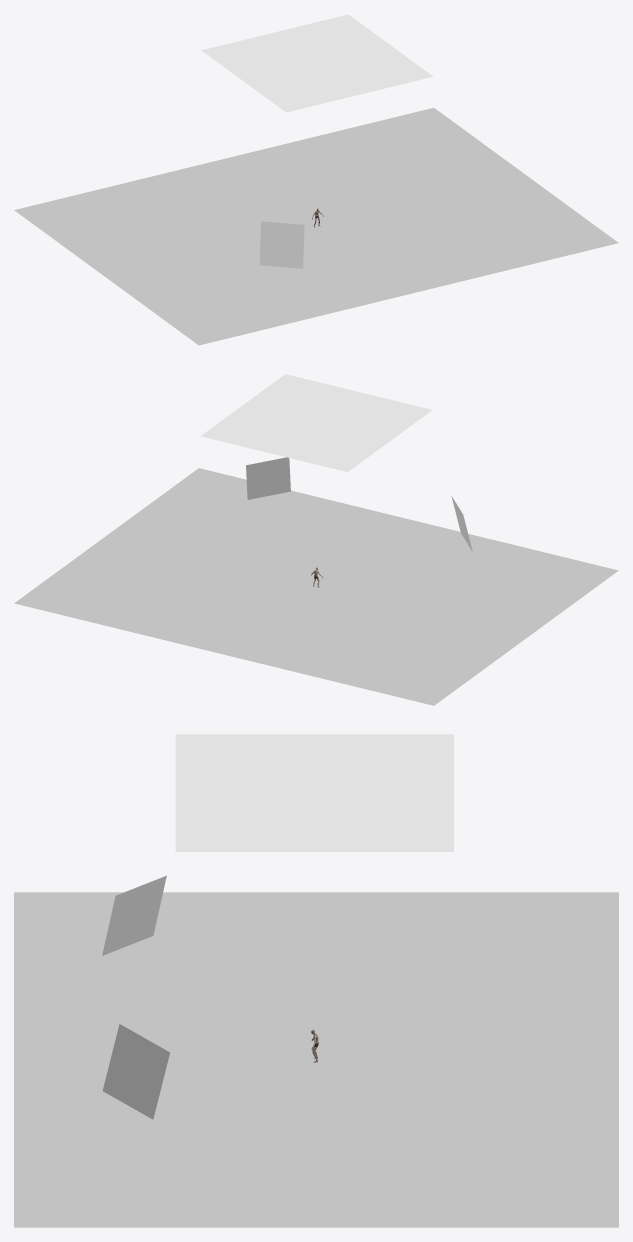
The model's file is OldMan.obj.
3 renders of one model, top to bottom at view 1: azimuth 30°, elevation 25°; view 2: azimuth 150°, elevation 25°; view 3: azimuth 270°, elevation 25°, orthographic. The views are drawn at different scales.
Visible parts, largest first — view 1: Plane, Softbox, Front_Of_Softbox, Front_Of_Softbox_1; view 2: Plane, Softbox, Front_Of_Softbox_1; view 3: Plane, Softbox, Front_Of_Softbox_1, Front_Of_Softbox.
Boxes of the visible parts, x1=… form: Plane: x1=14, y1=107, x2=618, y2=345; Softbox: x1=201, y1=14, x2=432, y2=112; Front_Of_Softbox: x1=259, y1=221, x2=304, y2=268; Front_Of_Softbox_1: x1=464, y1=170, x2=484, y2=226; Plane: x1=14, y1=468, x2=618, y2=705; Softbox: x1=201, y1=374, x2=432, y2=472; Front_Of_Softbox_1: x1=246, y1=457, x2=290, y2=499; Plane: x1=14, y1=892, x2=618, y2=1227; Softbox: x1=175, y1=734, x2=453, y2=851; Front_Of_Softbox_1: x1=102, y1=1024, x2=170, y2=1119; Front_Of_Softbox: x1=102, y1=875, x2=166, y2=955.
Bounding box in the file's own units: 4277 × 1590 × 3262.
Materials: 9 (6 with a texture image).
